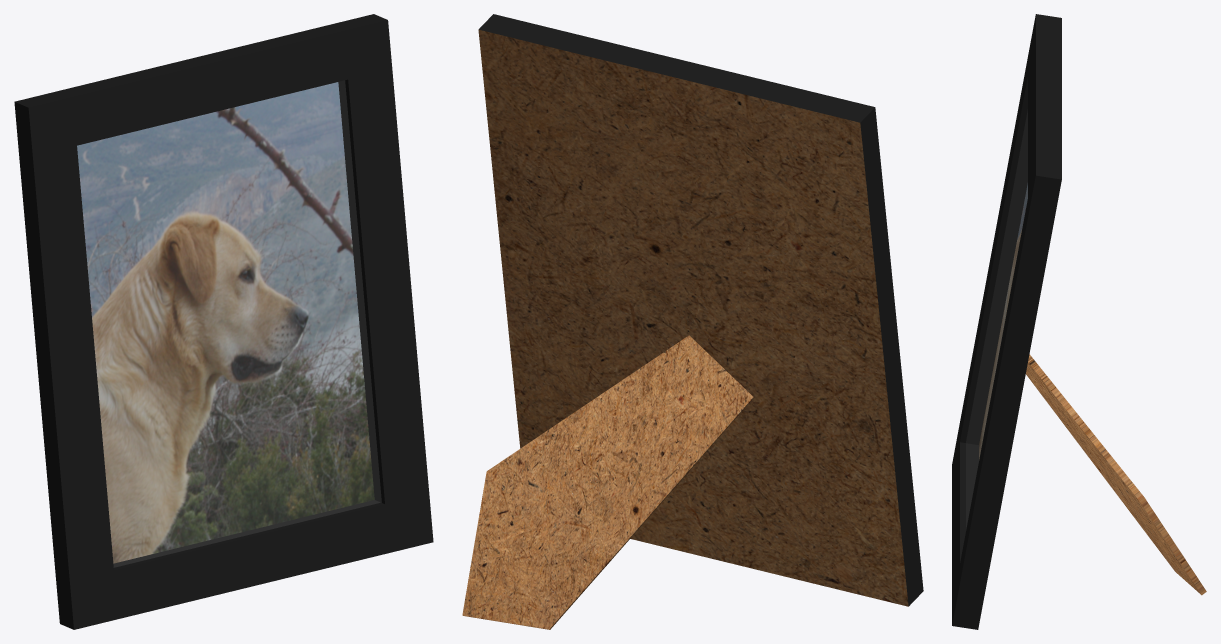
File: Photo 2.FBX
3 views of the same model, side by side, from view 1: azimuth 30°, elevation 25°; view 2: azimuth 150°, elevation 25°; view 3: azimuth 270°, elevation 25° (orthographic). The views are drawn at different scales.
Visible parts, largest first — view 1: Photo 2; view 2: Photo 2; view 3: Photo 2.
Part boxes in pixels (left/top/right/bottom): Photo 2: left=14, top=14, right=433, bottom=629; Photo 2: left=462, top=14, right=923, bottom=629; Photo 2: left=952, top=14, right=1206, bottom=629.
Bounding box in the file's own units: 17.89 × 23.46 × 11.92.
Materials: 2 (1 with a texture image).
